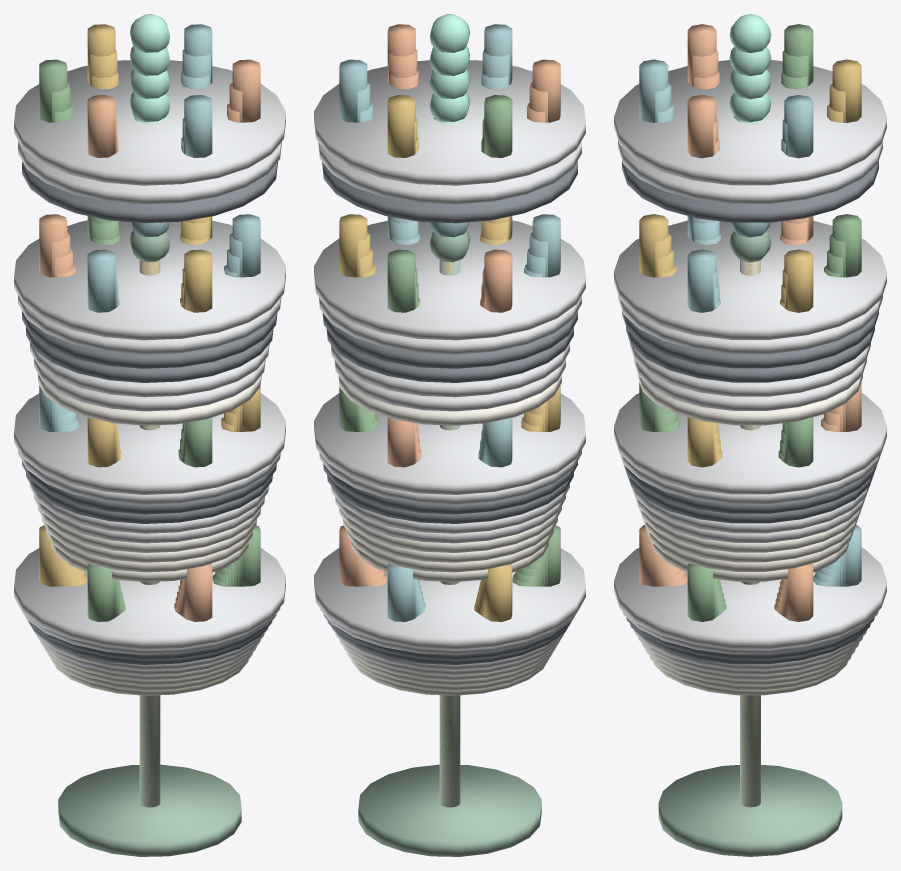
File: Gear14.fbx
3 views of the same model, side by side, from view 1: azimuth 30°, elevation 25°; view 2: azimuth 150°, elevation 25°; view 3: azimuth 270°, elevation 25° (orthographic).
Parts seen in each view (by area): view 1: Gear14_V10_Platinum, Gear14_V1_Sage, Gear14_V9_Platinum, Gear14_V8_Graphite, Gear14_V7_Graphite, Gear14_V10_Gold, Gear14_V6_Platinum, Gear14_V5_Platinum, Gear14_V4_Linen, Gear14_V10_Blue, Gear14_V10_Apricot, Gear14_V10_Leaf (+17 smaller); view 2: Gear14_V10_Platinum, Gear14_V1_Sage, Gear14_V9_Platinum, Gear14_V8_Graphite, Gear14_V7_Graphite, Gear14_V6_Platinum, Gear14_V5_Platinum, Gear14_V10_Blue, Gear14_V10_Gold, Gear14_V4_Linen, Gear14_V10_Apricot, Gear14_V10_Leaf (+16 smaller); view 3: Gear14_V10_Platinum, Gear14_V1_Sage, Gear14_V9_Platinum, Gear14_V8_Graphite, Gear14_V7_Graphite, Gear14_V10_Gold, Gear14_V6_Platinum, Gear14_V5_Platinum, Gear14_V4_Linen, Gear14_V10_Apricot, Gear14_V10_Blue, Gear14_V10_Leaf (+16 smaller).
Boxes of the visible parts, x1,y1,x2,y2 form: Gear14_V10_Platinum: (14, 60, 285, 649); Gear14_V1_Sage: (58, 230, 241, 856); Gear14_V9_Platinum: (18, 141, 281, 654); Gear14_V8_Graphite: (22, 162, 277, 659); Gear14_V7_Graphite: (26, 327, 273, 664); Gear14_V10_Gold: (39, 24, 260, 807); Gear14_V6_Platinum: (30, 343, 269, 670); Gear14_V5_Platinum: (34, 358, 265, 675); Gear14_V4_Linen: (38, 374, 261, 680); Gear14_V10_Blue: (39, 24, 260, 431); Gear14_V10_Apricot: (39, 59, 260, 621); Gear14_V10_Leaf: (39, 59, 260, 621); Gear14_V10_Platinum: (314, 60, 585, 649); Gear14_V1_Sage: (358, 230, 541, 856); Gear14_V9_Platinum: (318, 141, 581, 654); Gear14_V8_Graphite: (322, 162, 577, 659); Gear14_V7_Graphite: (326, 327, 573, 664); Gear14_V6_Platinum: (330, 343, 569, 670); Gear14_V5_Platinum: (334, 358, 565, 675); Gear14_V10_Blue: (339, 24, 560, 621); Gear14_V10_Gold: (339, 95, 560, 807); Gear14_V4_Linen: (338, 374, 561, 680); Gear14_V10_Apricot: (339, 24, 560, 586); Gear14_V10_Leaf: (339, 95, 560, 586); Gear14_V10_Platinum: (614, 60, 886, 648); Gear14_V1_Sage: (658, 231, 842, 856); Gear14_V9_Platinum: (618, 140, 882, 653); Gear14_V8_Graphite: (622, 161, 878, 659); Gear14_V7_Graphite: (626, 327, 874, 664); Gear14_V10_Gold: (639, 59, 861, 806); Gear14_V6_Platinum: (630, 342, 870, 669); Gear14_V5_Platinum: (634, 358, 866, 674); Gear14_V4_Linen: (638, 374, 862, 679); Gear14_V10_Apricot: (639, 24, 861, 621); Gear14_V10_Blue: (639, 59, 861, 586); Gear14_V10_Leaf: (639, 24, 861, 621).
Bounding box in the file's own units: 64.62 × 212 × 65.28.
